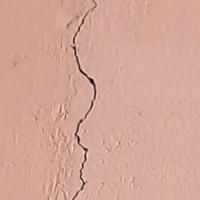crack: (53, 0, 111, 199)
